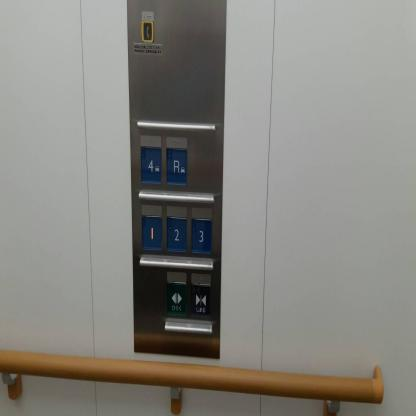1: (142, 214, 162, 252)
2: (166, 216, 187, 252)
3: (191, 217, 211, 254)
4: (140, 147, 162, 184)
R: (166, 147, 188, 186)
call: (141, 21, 154, 44)
close: (190, 282, 210, 317)
open: (166, 280, 187, 316)
